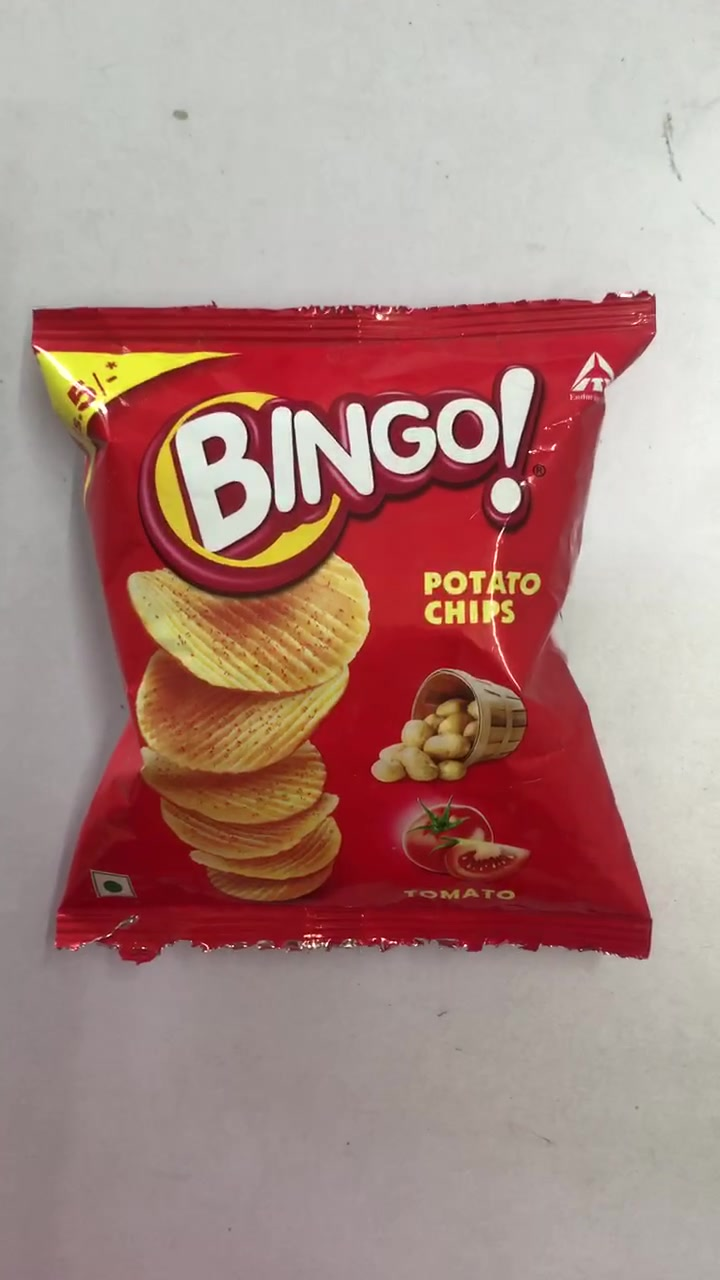Bingo: (38, 306, 649, 955)
